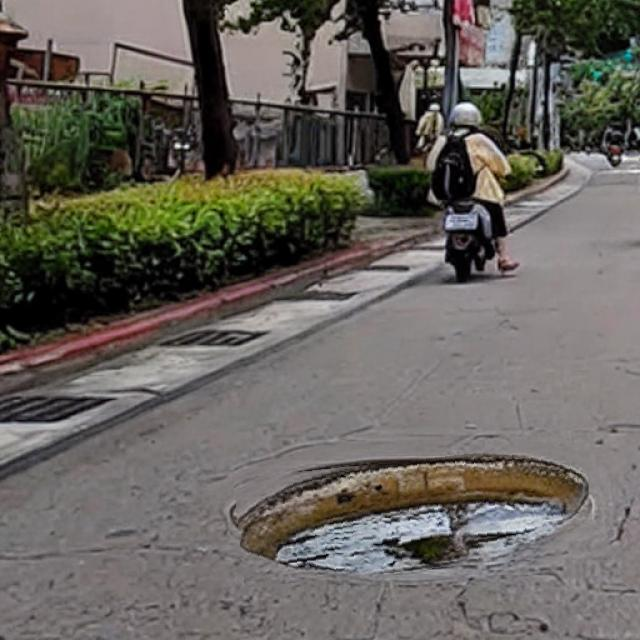puddle: (237, 452, 594, 580)
